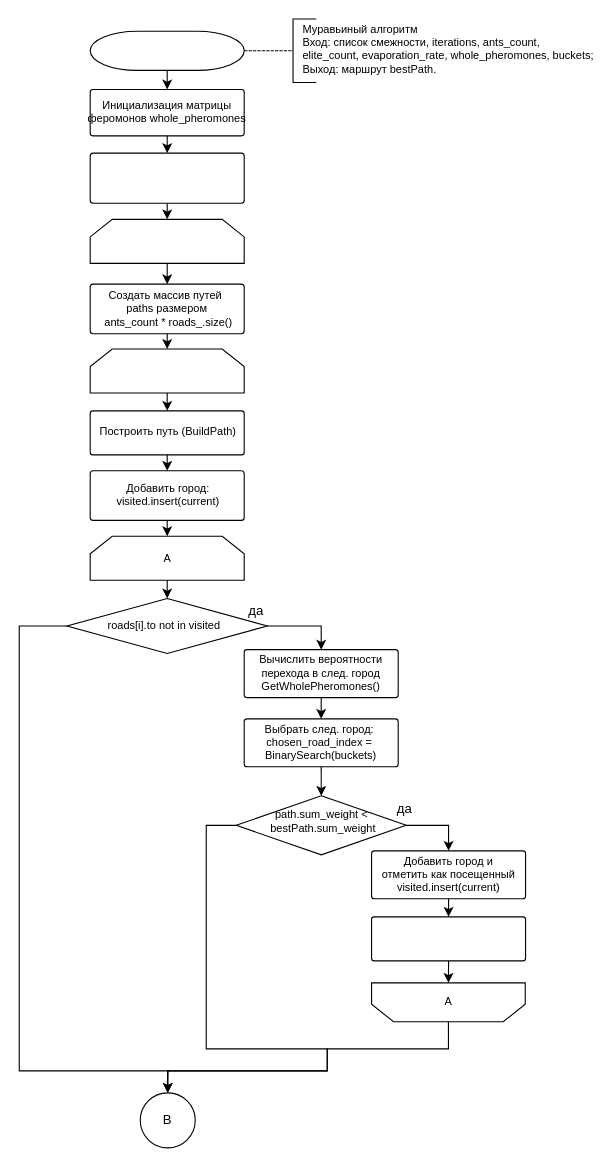
This 615x1168 diagram has some shape labels left out. Each missing label, with the centre of its shape:
"bestPath = null; found_path = false" goes at (x=166, y=177).
"current = city.GetRoads(current).to" goes at (x=448, y=938).
"for i = 0 to iterations" goes at (x=166, y=240).
"for j = 0 to a nts_count * roads_.size()" goes at (x=166, y=370).
"Начало" goes at (x=166, y=50).
